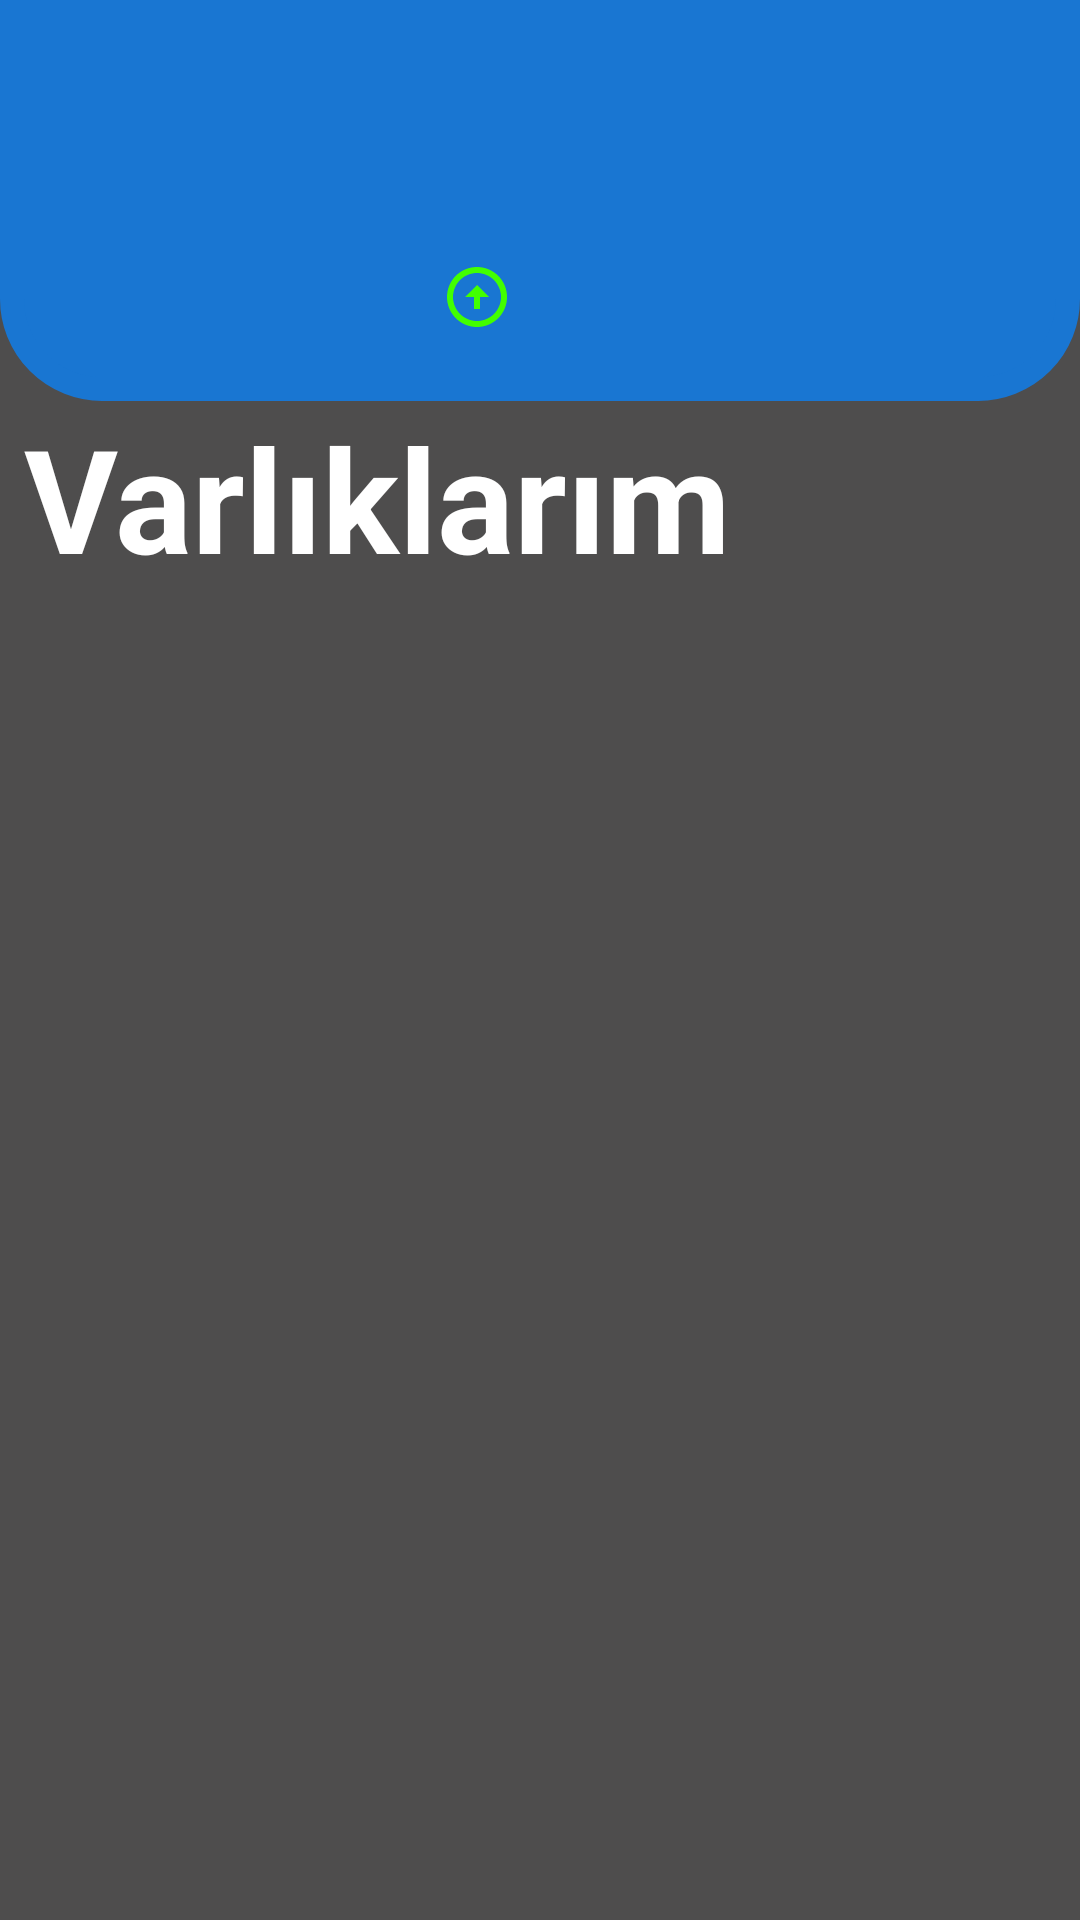

Icons on this 1080px×1920px Android screen, each with its box as [left=x1, top=y1, right=x2, bottom=y2]:
up arrow: [left=447, top=267, right=507, bottom=327]
